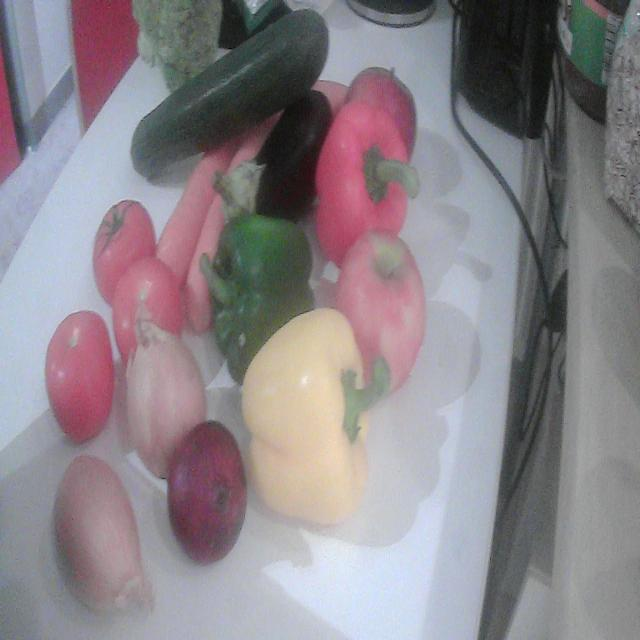Apple: (334, 233, 426, 391), (344, 68, 416, 155)
Bell Pepper: (242, 308, 389, 526), (200, 214, 314, 381), (316, 100, 420, 267)
Broccoli: (132, 0, 222, 92)
Carrot: (156, 151, 233, 285)
Courgette: (132, 9, 329, 176)
Eggplant: (220, 90, 332, 222)
Onion: (54, 456, 152, 612), (123, 302, 206, 477), (168, 423, 246, 563)
Tomato: (46, 311, 114, 444), (112, 257, 184, 364), (93, 200, 156, 304)
